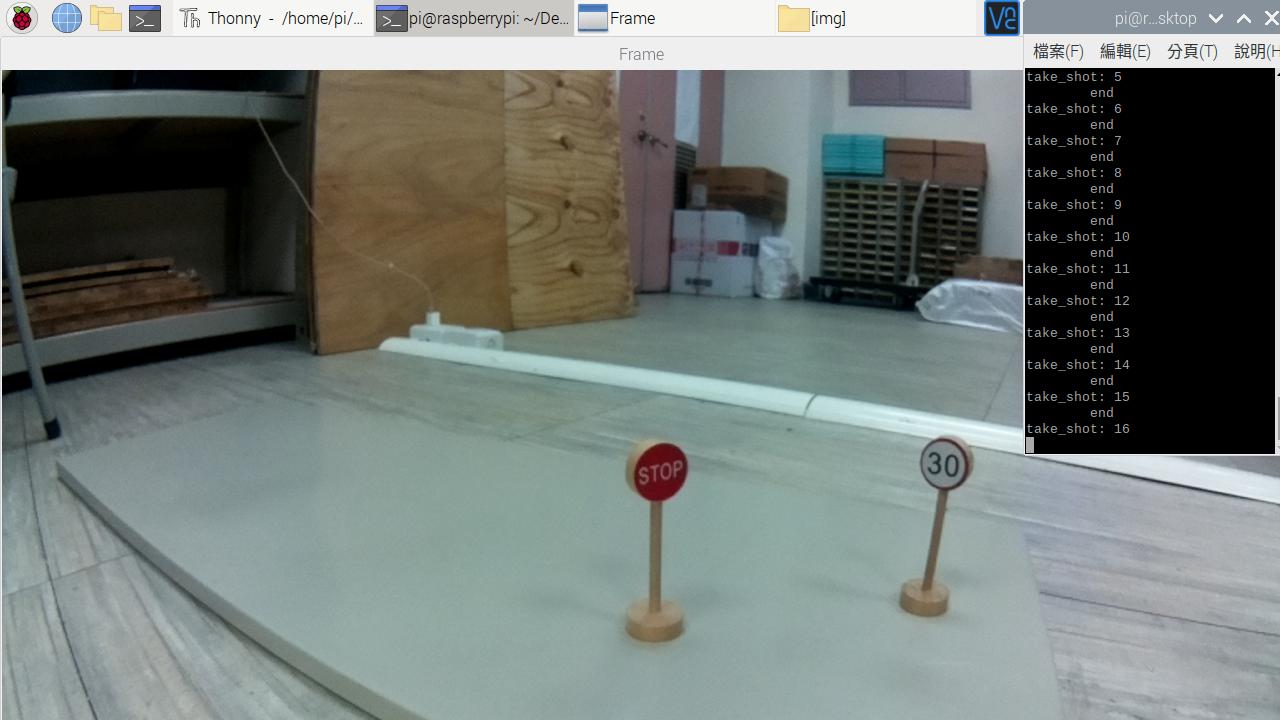Speed30: (915, 436, 971, 492)
Stop: (627, 439, 688, 504)
